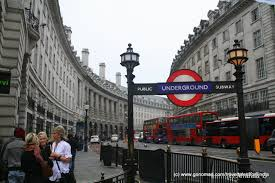London Underground: (156, 70, 213, 107)
